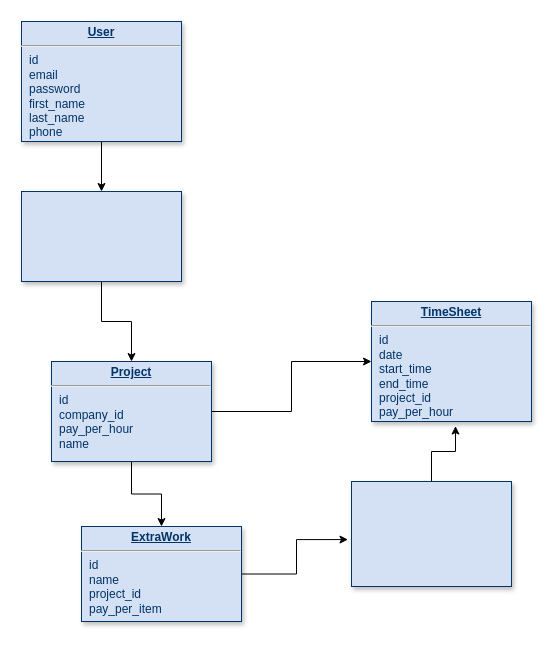
Image size: 555x646. Some labels were removed from this diagram. The centre of each missing label's shape, as x and y in pixels:
"Company id name user_id" goes at (x=102, y=237).
"ExtraWorkTimeSheet extrawork_id timesheet_id pay_per_item" goes at (x=432, y=535).
